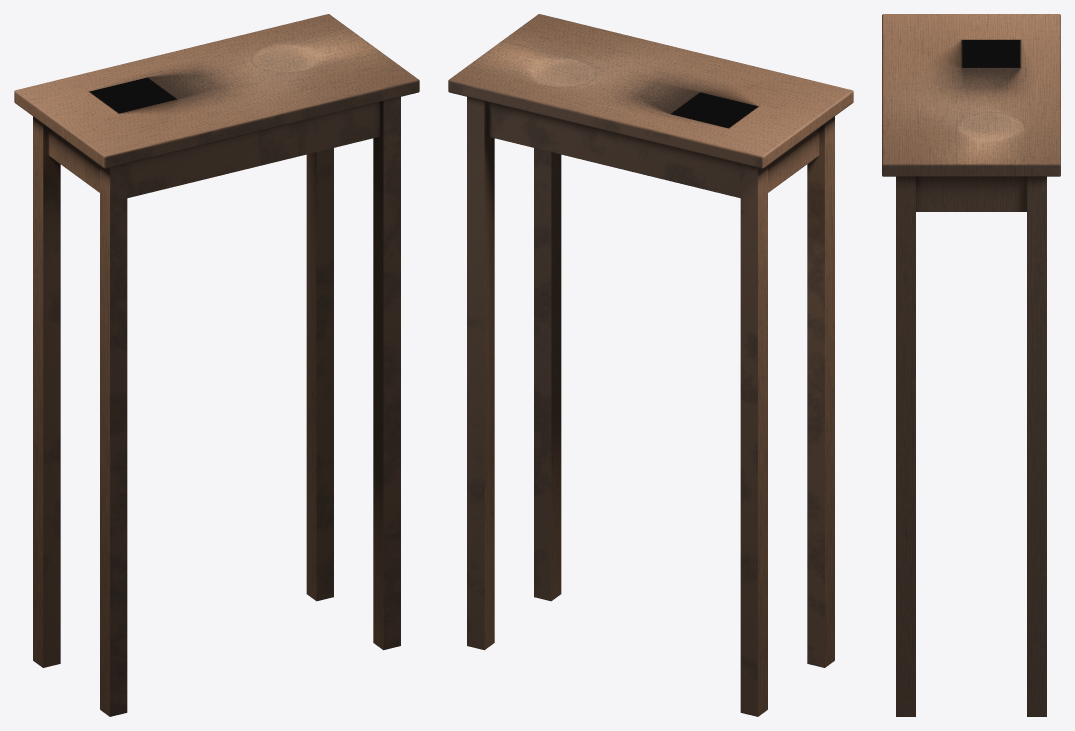
The model's file is 401_flow.glb.
3 views of the same model, side by side, from view 1: azimuth 30°, elevation 25°; view 2: azimuth 150°, elevation 25°; view 3: azimuth 270°, elevation 25° (orthographic).
Parts seen in each view (by area): view 1: Table; view 2: Table; view 3: Table.
Part boxes in pixels (box(x1,y1,x2,y2)): Table: box(14, 14, 419, 716); Table: box(448, 14, 853, 716); Table: box(882, 14, 1060, 716).
Size of what is drawn, in the model's own units: 1.8 by 3.1 by 0.9.
1 material, 1 textured.
